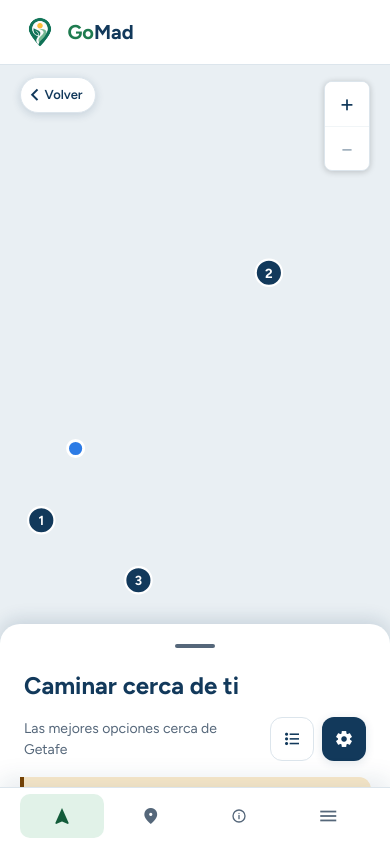
Ajustar en el panel de resultados › deja cambiar tiempo, distancia, ventana, lugar y perfil sin salir de Resultados
Click the button named "Ajustar preferencias": point(344, 739) left=322, top=717, right=366, bottom=761
(page scrolled)
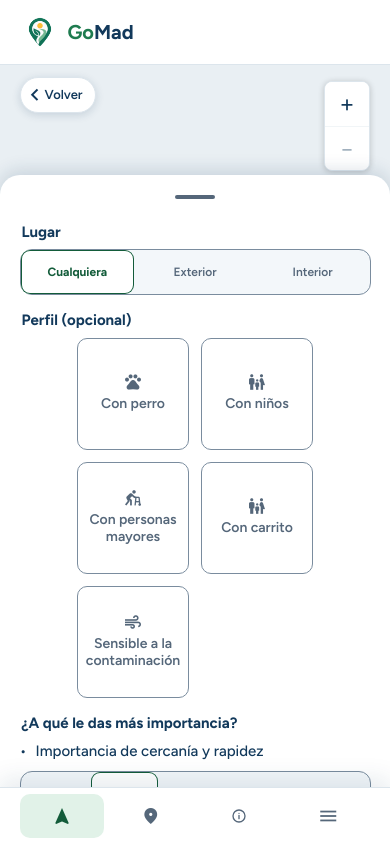
Expected: the element "Lugar" is shown, left=20, top=221, right=370, bottom=295
Expected: the element "Perfil (opcional)" is shown, left=22, top=311, right=313, bottom=698
